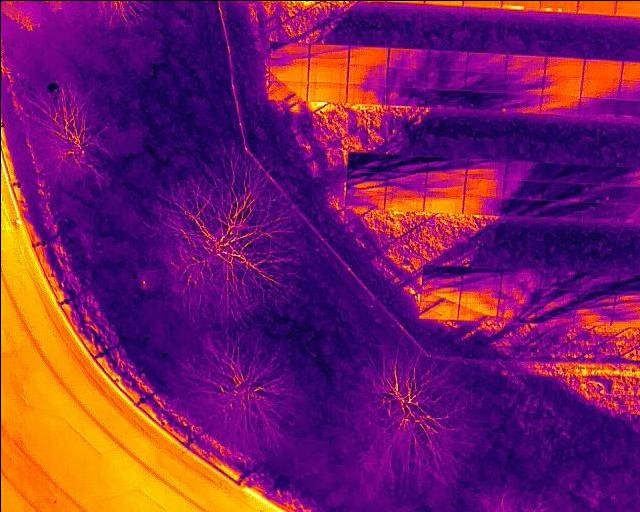No-Anomaly: (348, 44, 387, 66), (307, 63, 347, 84), (307, 81, 345, 102), (581, 78, 619, 98), (582, 59, 621, 78), (545, 56, 582, 76), (424, 196, 462, 213), (576, 0, 615, 15)
Shadowing: (387, 45, 427, 68), (419, 265, 461, 286), (576, 203, 617, 224), (267, 60, 308, 81), (507, 160, 547, 181), (427, 49, 467, 70), (387, 155, 428, 175), (384, 174, 425, 194), (425, 176, 464, 197), (347, 64, 386, 85), (545, 163, 585, 183), (584, 165, 624, 185), (581, 185, 621, 205), (503, 53, 543, 73), (386, 67, 426, 87), (425, 69, 465, 89), (346, 84, 386, 104), (503, 179, 545, 198), (497, 269, 539, 288), (467, 158, 506, 178), (466, 52, 505, 72), (386, 87, 427, 106), (466, 90, 504, 110), (347, 152, 387, 171), (466, 71, 506, 90), (544, 75, 582, 95), (267, 81, 307, 100), (500, 198, 542, 216), (427, 89, 466, 108), (309, 44, 348, 63), (497, 303, 534, 323), (540, 94, 581, 112), (383, 194, 424, 212), (543, 183, 581, 202), (506, 74, 544, 93), (503, 92, 543, 110), (426, 157, 466, 175), (347, 171, 383, 191), (345, 192, 385, 210), (536, 288, 576, 306), (457, 301, 497, 319), (460, 268, 502, 285), (541, 200, 578, 219), (580, 97, 619, 115), (540, 272, 579, 290), (464, 178, 502, 196), (462, 197, 500, 215), (420, 286, 460, 303), (417, 302, 457, 319), (269, 42, 309, 59), (459, 285, 498, 302), (498, 288, 538, 304), (533, 307, 573, 323), (576, 289, 615, 305), (572, 306, 612, 321), (578, 274, 616, 289)
